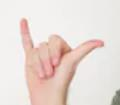clockwise: (16, 13, 108, 96)
